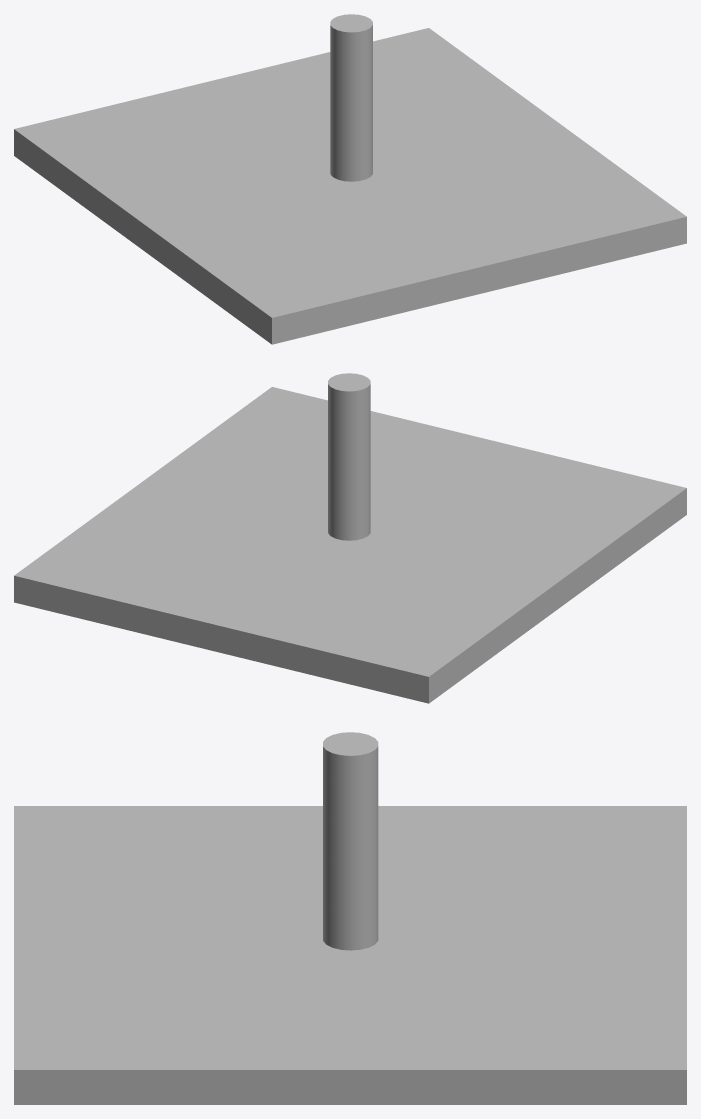
Rendered from BaseCilindro.obj.
3 renders of one model, top to bottom at view 1: azimuth 30°, elevation 25°; view 2: azimuth 150°, elevation 25°; view 3: azimuth 270°, elevation 25°, orthographic. The views are drawn at different scales.
Visible parts, largest first — view 1: Box001, Cylinder001; view 2: Box001, Cylinder001; view 3: Box001, Cylinder001.
Part boxes in pixels (x1=…): Box001: x1=14, y1=28, x2=686, y2=344; Cylinder001: x1=330, y1=14, x2=372, y2=181; Box001: x1=14, y1=387, x2=686, y2=703; Cylinder001: x1=328, y1=373, x2=370, y2=540; Box001: x1=14, y1=806, x2=686, y2=1104; Cylinder001: x1=323, y1=732, x2=378, y2=950.
Size of the model in its own units: 490 by 199 by 528.
1 material, 1 textured.
